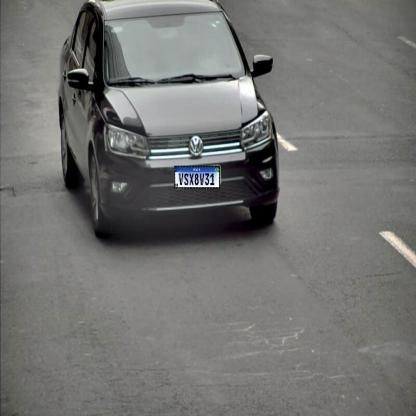PlacaM: (174, 166, 220, 188)
